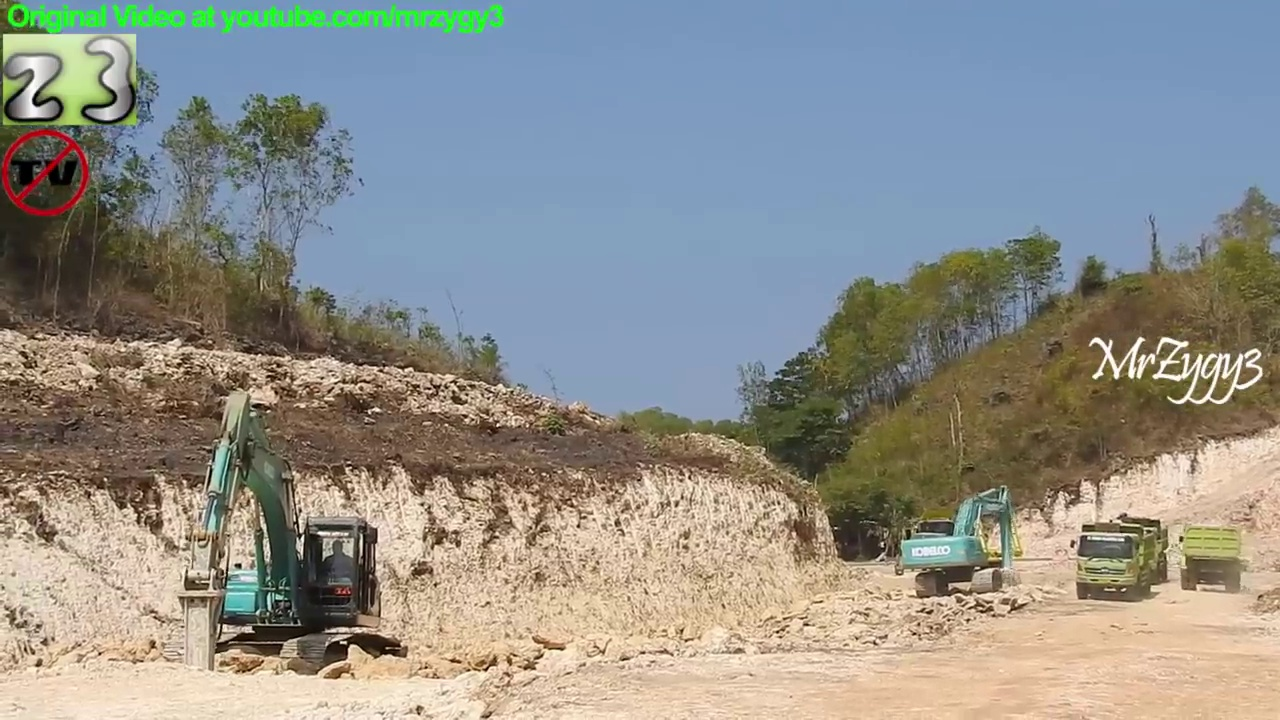excavator: (898, 482, 1023, 602)
excavator breaker: (158, 383, 413, 685)
truck: (1068, 520, 1162, 603), (1085, 513, 1171, 593), (1177, 524, 1250, 595)
